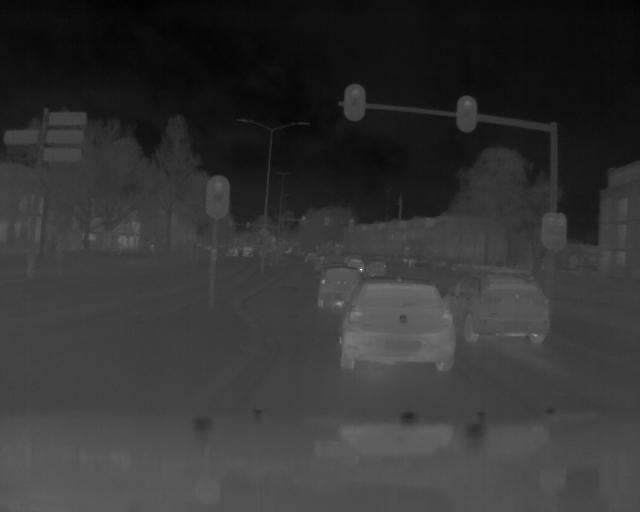car: (341, 280, 453, 374), (460, 273, 549, 350), (316, 260, 358, 310), (364, 257, 388, 280)
